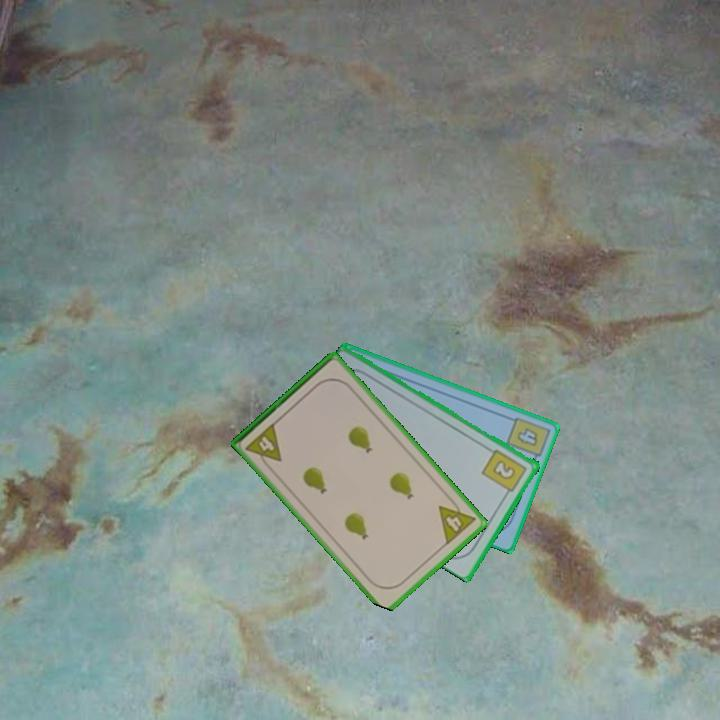2b: (479, 445, 530, 499)
4b: (503, 413, 551, 466)
4p: (435, 493, 478, 548), (242, 419, 285, 472)
